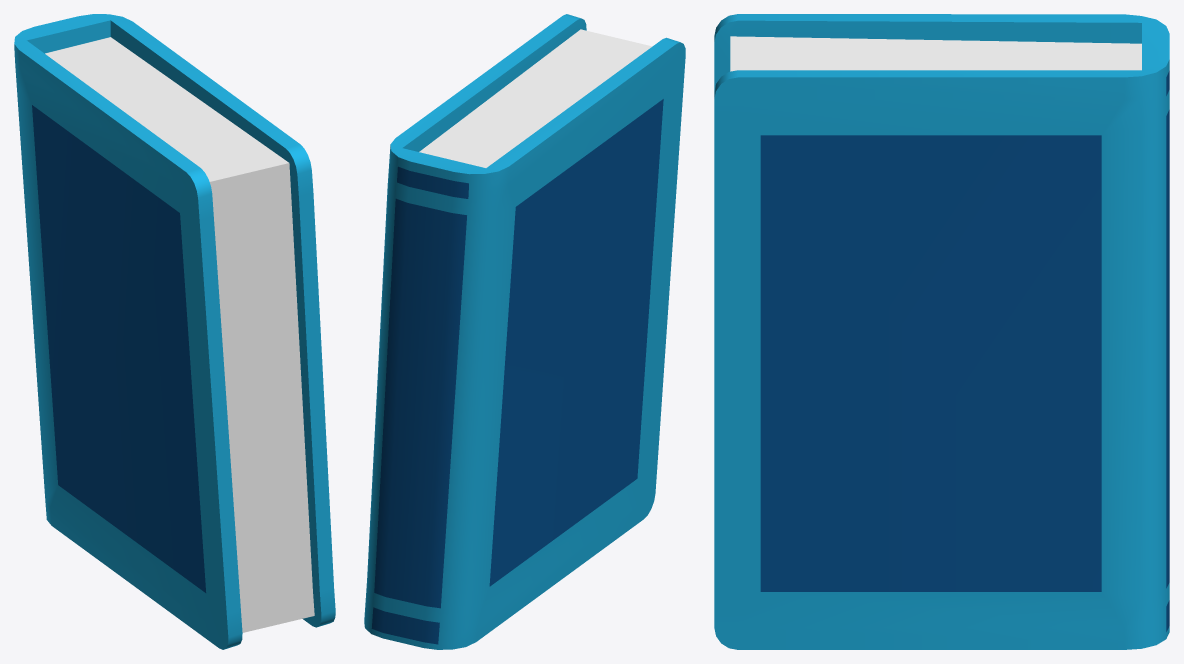
File: book_28.fbx
3 views of the same model, side by side, from view 1: azimuth 30°, elevation 25°; view 2: azimuth 150°, elevation 25°; view 3: azimuth 270°, elevation 25° (orthographic). The views are drawn at different scales.
Visible parts, largest first — view 1: book_28; view 2: book_28; view 3: book_28.
Boxes of the visible parts, <box> form: book_28: <box>14,14,335,649</box>; book_28: <box>364,14,685,649</box>; book_28: <box>714,14,1169,649</box>.
Size of the model in its own units: 0.1047 by 0.3466 by 0.2557.
